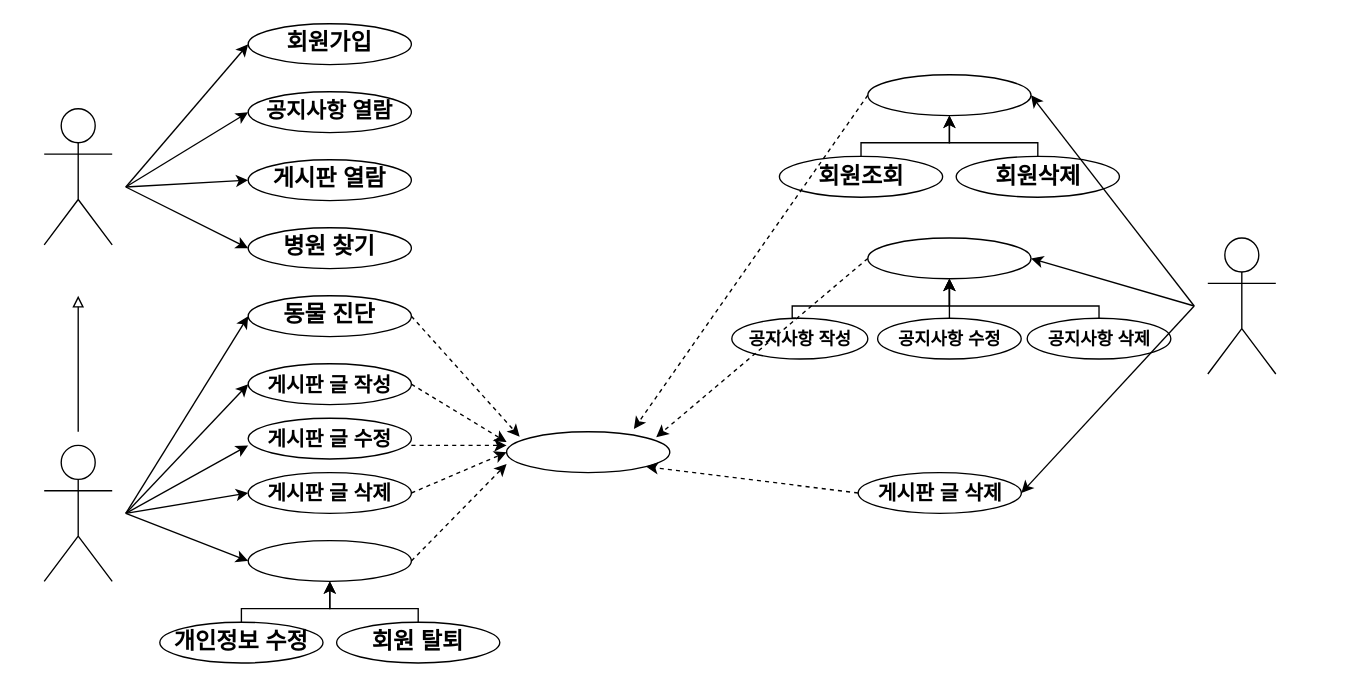
Some shapes in this 1360 by 687 pixel diagram are drawn without their labels. The box of each missing label's shape, as (x1, y1, x2, y2) in pixels:
Administrator: (1206, 237, 1276, 374)
Member: (43, 444, 112, 581)
User: (43, 107, 112, 245)
개인정보 관리: (247, 539, 411, 581)
공지사항 관리: (866, 237, 1031, 279)
사용자 인증: (505, 430, 670, 473)
회원관리: (866, 73, 1031, 116)
